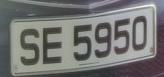0: (131, 13, 150, 56)
5: (71, 20, 94, 65), (112, 16, 132, 58)
9: (93, 19, 114, 61)
E: (39, 21, 68, 70)
S: (17, 24, 43, 72)
